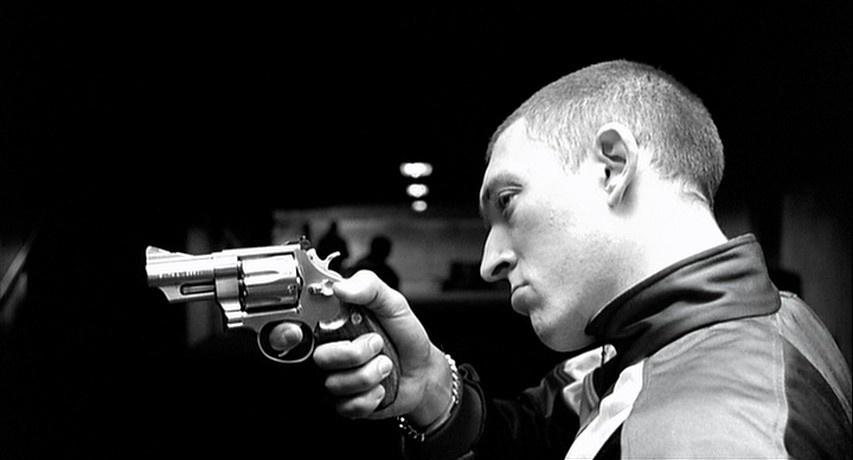gun: (140, 227, 410, 424)
